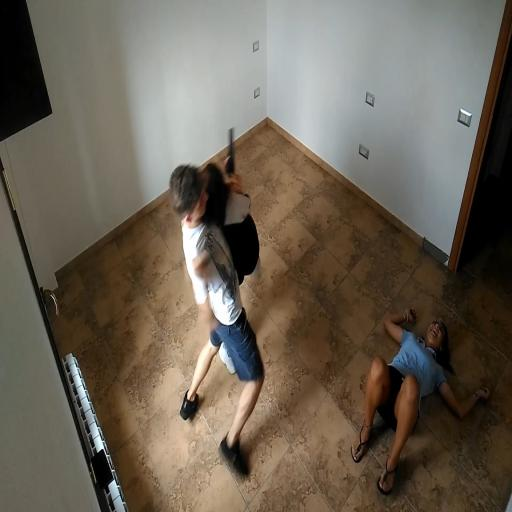violencia: (158, 104, 275, 490)
